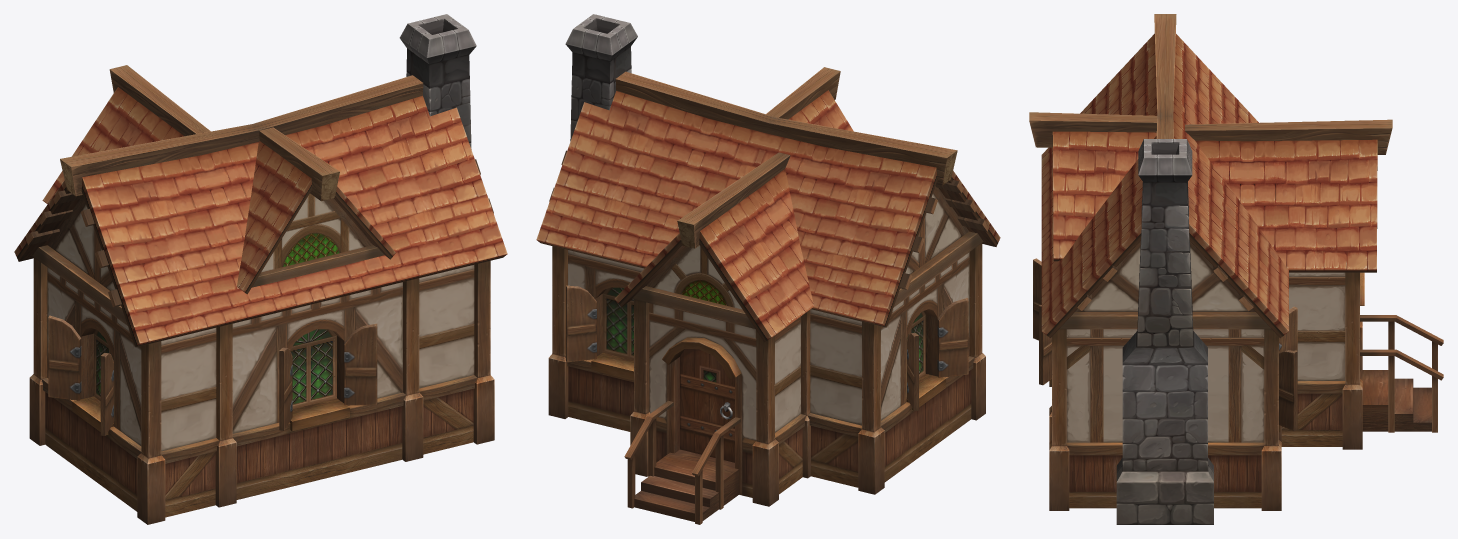
The model's file is House1_LOD.fbx.
The picture shows the model from 3 angles, left to right: view 1: azimuth 30°, elevation 25°; view 2: azimuth 150°, elevation 25°; view 3: azimuth 270°, elevation 25°; orthographic projection. The views are drawn at different scales.
Visible parts, largest first — view 1: House1_LOD0; view 2: House1_LOD0; view 3: House1_LOD0.
Part boxes in pixels (bbox=[...]): House1_LOD0: bbox=[14, 14, 507, 524]; House1_LOD0: bbox=[536, 14, 1000, 524]; House1_LOD0: bbox=[1029, 14, 1443, 524].
Size of what is drawn, in the model's own units: 821 by 726 by 750.
Materials: 1 (1 with a texture image).
